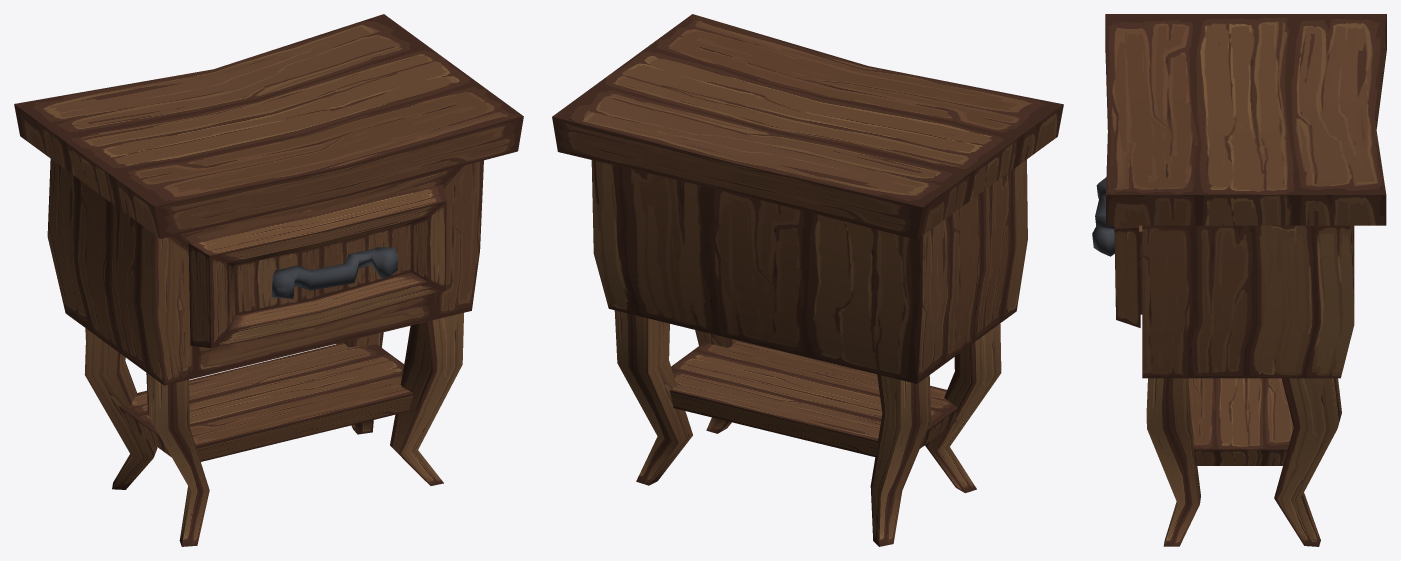
Rendered from SM_PROP_nightstand_interior_02.fbx.
3 views of the same model, side by side, from view 1: azimuth 30°, elevation 25°; view 2: azimuth 150°, elevation 25°; view 3: azimuth 270°, elevation 25° (orthographic).
Visible parts, largest first — view 1: SM_PROP_nightstand_interior_02, SM_PROP_nightstand_drawer_interior_02; view 2: SM_PROP_nightstand_interior_02; view 3: SM_PROP_nightstand_interior_02, SM_PROP_nightstand_drawer_interior_02.
Boxes of the visible parts, x1=… form: SM_PROP_nightstand_interior_02: x1=14, y1=14, x2=523, y2=546; SM_PROP_nightstand_drawer_interior_02: x1=188, y1=184, x2=446, y2=348; SM_PROP_nightstand_interior_02: x1=552, y1=14, x2=1063, y2=546; SM_PROP_nightstand_interior_02: x1=1105, y1=14, x2=1386, y2=546; SM_PROP_nightstand_drawer_interior_02: x1=1092, y1=177, x2=1142, y2=327.
Bounding box in the file's own units: 88.16 × 85.62 × 60.71.
